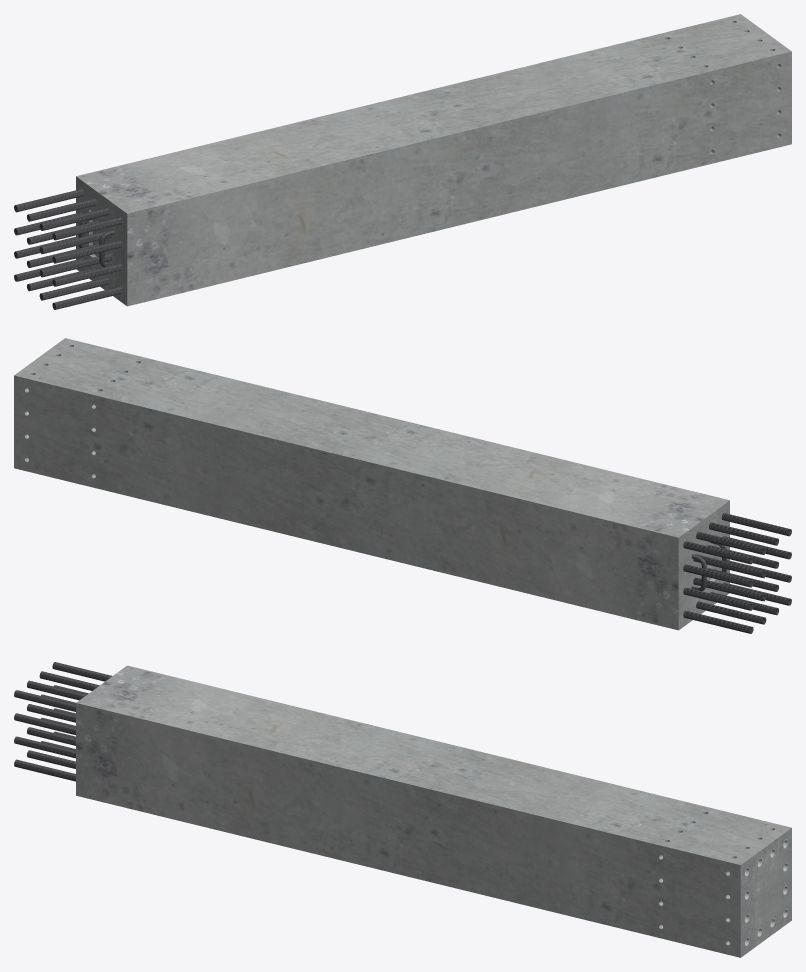
The model's file is 预制柱.fbx.
3 views of the same model, one above another, from view 1: azimuth 30°, elevation 25°; view 2: azimuth 150°, elevation 25°; view 3: azimuth 330°, elevation 25° (orthographic).
Parts seen in each view (by area): view 1: pasted__CJ_yuzhizhu002; view 2: pasted__CJ_yuzhizhu002; view 3: pasted__CJ_yuzhizhu002.
Boxes of the visible parts, left/top/right/bottom form: pasted__CJ_yuzhizhu002: left=14, top=14, right=791, bottom=309; pasted__CJ_yuzhizhu002: left=14, top=338, right=791, bottom=633; pasted__CJ_yuzhizhu002: left=14, top=662, right=791, bottom=957.
Bounding box in the file's own units: 330 × 40 × 40.
